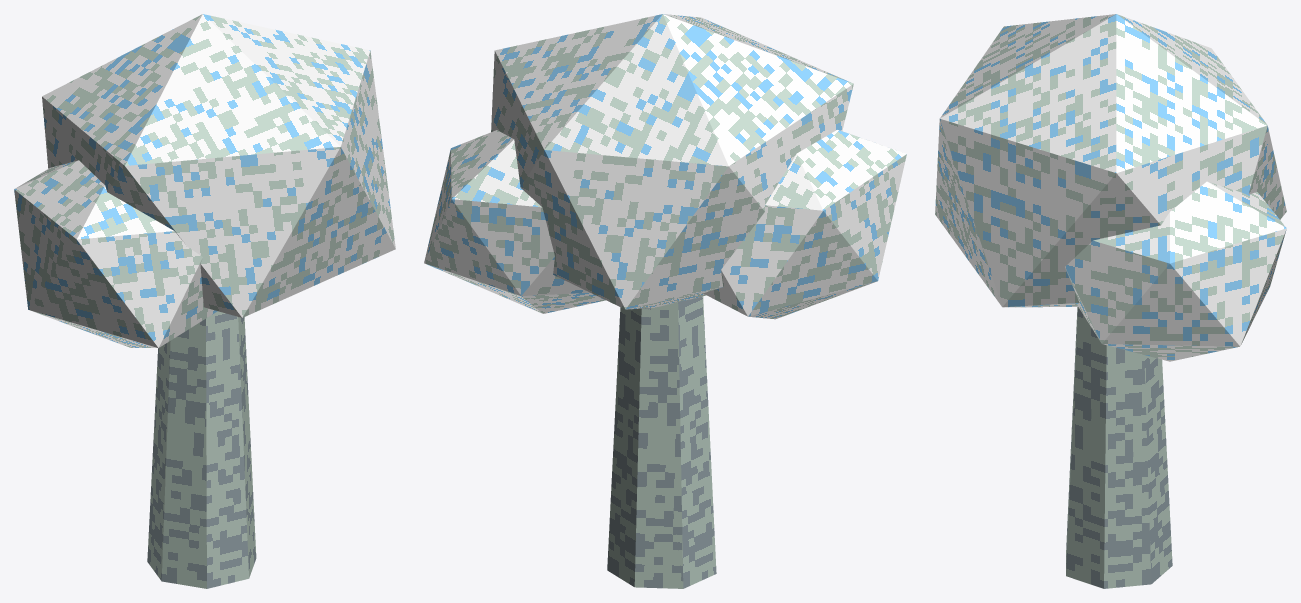
Rendered from r09_arvore_nuvem_1.glb.
The picture shows the model from 3 angles, left to right: view 1: azimuth 30°, elevation 25°; view 2: azimuth 150°, elevation 25°; view 3: azimuth 270°, elevation 25°; orthographic projection.
Parts seen in each view (by area): view 1: r09_arvore_nuvem_1; view 2: r09_arvore_nuvem_1; view 3: r09_arvore_nuvem_1.
Part boxes in pixels (x1=…): r09_arvore_nuvem_1: x1=14, y1=14, x2=395, y2=588; r09_arvore_nuvem_1: x1=424, y1=14, x2=906, y2=588; r09_arvore_nuvem_1: x1=935, y1=14, x2=1286, y2=588.
Size of the model in its own units: 3.28 by 4.55 by 2.63.
Materials: 2 (2 with a texture image).
